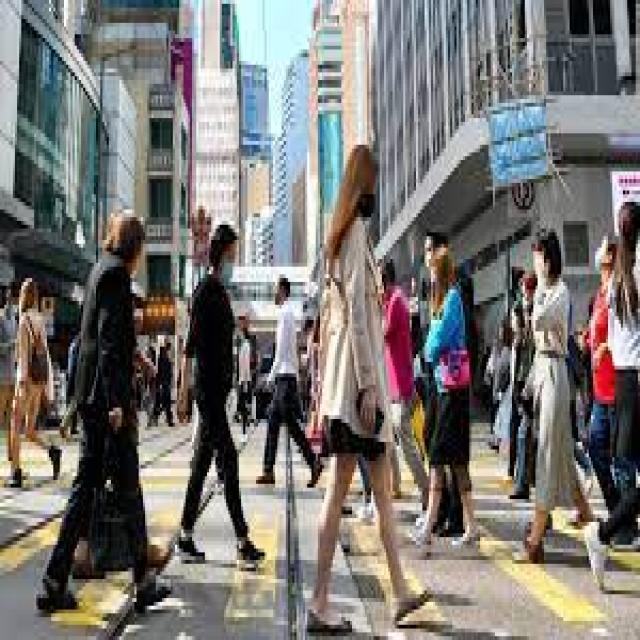Pedestrians: (310, 141, 436, 629), (36, 210, 171, 614), (170, 221, 266, 571), (510, 228, 587, 564), (582, 198, 640, 583), (414, 252, 484, 556), (260, 270, 329, 488), (6, 278, 62, 484)
